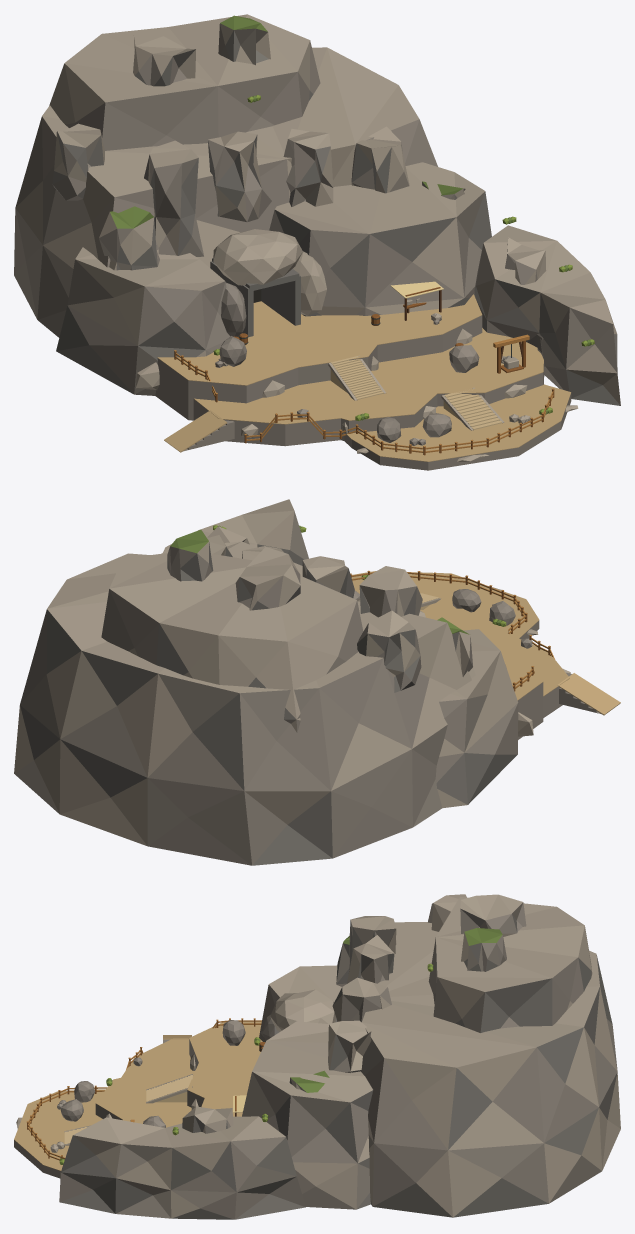
The model's file is MountainQuarry.glb.
3 views of the same model, one above another, from view 1: azimuth 30°, elevation 25°; view 2: azimuth 150°, elevation 25°; view 3: azimuth 270°, elevation 25° (orthographic). The views are drawn at different scales.
Parts seen in each view (by area): view 1: RearMass_StoneLight, RearMass_Stone, RockButtresses_StoneLight, HighRidge_StoneLight, MiddleBenchSurface_Dust, HighRidge_Stone, UpperBenchSurface_Dust, RightShoulder_StoneLight, RockButtresses_Stone, LeftShoulder_Stone, EastExtension_StoneLight, RightShoulder_Stone (+20 smaller); view 2: RearMass_Stone, RearMass_StoneLight, HighRidge_StoneLight, RearMass_StoneDark, RockButtresses_StoneLight, LeftShoulder_StoneLight, HighRidge_Stone, LeftShoulder_Stone, RockButtresses_Stone, RockButtresses_StoneDark, MiddleBenchSurface_Dust, LowerBenchSurface_Dust (+9 smaller); view 3: RearMass_StoneLight, RearMass_Stone, HighRidge_StoneLight, RearMass_StoneDark, EastExtension_Stone, RightShoulder_StoneLight, EastExtension_StoneLight, EastExtension_StoneDark, RightShoulder_Stone, RockButtresses_StoneLight, MiddleBenchSurface_Dust, RockButtresses_Stone (+11 smaller).
Part boxes in pixels (x1=…): RearMass_StoneLight: x1=15, y1=47, x2=419, y2=268; RearMass_Stone: x1=14, y1=116, x2=437, y2=337; RockButtresses_StoneLight: x1=54, y1=23, x2=546, y2=284; HighRidge_StoneLight: x1=49, y1=14, x2=310, y2=124; MiddleBenchSurface_Dust: x1=194, y1=328, x2=543, y2=424; HighRidge_Stone: x1=65, y1=41, x2=320, y2=150; UpperBenchSurface_Dust: x1=157, y1=294, x2=482, y2=385; RightShoulder_StoneLight: x1=274, y1=162, x2=484, y2=315; RockButtresses_Stone: x1=53, y1=24, x2=537, y2=284; LeftShoulder_Stone: x1=67, y1=259, x2=229, y2=395; EastExtension_StoneLight: x1=476, y1=225, x2=620, y2=405; RightShoulder_Stone: x1=269, y1=191, x2=485, y2=315; RearMass_Stone: x1=14, y1=609, x2=447, y2=865; RearMass_StoneLight: x1=14, y1=553, x2=471, y2=846; HighRidge_StoneLight: x1=109, y1=553, x2=356, y2=732; RearMass_StoneDark: x1=20, y1=609, x2=332, y2=865; RockButtresses_StoneLight: x1=197, y1=526, x2=475, y2=678; LeftShoulder_StoneLight: x1=437, y1=629, x2=517, y2=808; HighRidge_Stone: x1=101, y1=589, x2=363, y2=731; LeftShoulder_Stone: x1=435, y1=694, x2=518, y2=782; RockButtresses_Stone: x1=167, y1=538, x2=472, y2=690; RockButtresses_StoneDark: x1=167, y1=542, x2=459, y2=692; MiddleBenchSurface_Dust: x1=354, y1=589, x2=569, y2=696; LowerBenchSurface_Dust: x1=351, y1=571, x2=539, y2=638; RearMass_StoneLight: x1=362, y1=922, x2=620, y2=1217; RearMass_Stone: x1=361, y1=1019, x2=617, y2=1206; HighRidge_StoneLight: x1=436, y1=897, x2=592, y2=1018; RearMass_StoneDark: x1=370, y1=955, x2=617, y2=1217; EastExtension_Stone: x1=59, y1=1137, x2=305, y2=1219; RightShoulder_StoneLight: x1=252, y1=1021, x2=372, y2=1209; EastExtension_StoneLight: x1=73, y1=1116, x2=285, y2=1218; EastExtension_StoneDark: x1=60, y1=1135, x2=305, y2=1219; RightShoulder_Stone: x1=242, y1=1072, x2=369, y2=1209; RockButtresses_StoneLight: x1=182, y1=894, x2=522, y2=1133; MiddleBenchSurface_Dust: x1=95, y1=1038, x2=194, y2=1127; RockButtresses_Stone: x1=182, y1=902, x2=526, y2=1133.
Bounding box in the file's own units: 61.87 × 33.76 × 87.32.
